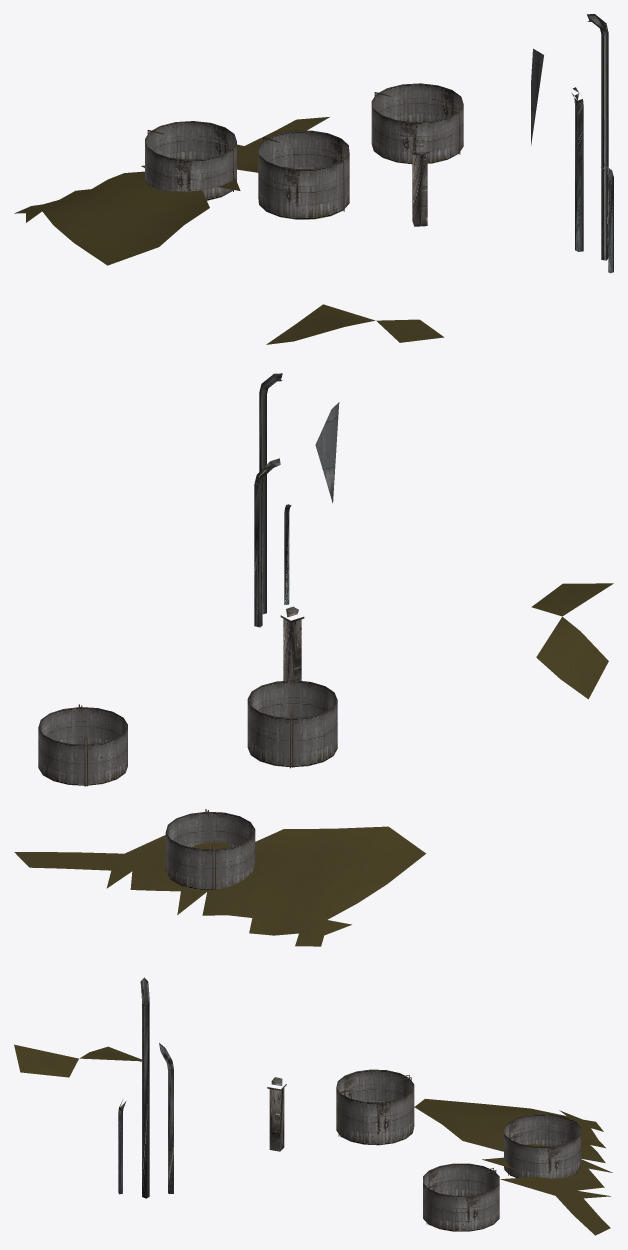
The model's file is world_camden_14_-8.gltf.
The picture shows the model from 3 angles, top to bottom: view 1: azimuth 30°, elevation 25°; view 2: azimuth 150°, elevation 25°; view 3: azimuth 270°, elevation 25°; orthographic projection. The views are drawn at different scales.
Bounding box in the file's own units: 167 × 136 × 273.
Materials: 5 (5 with a texture image).
